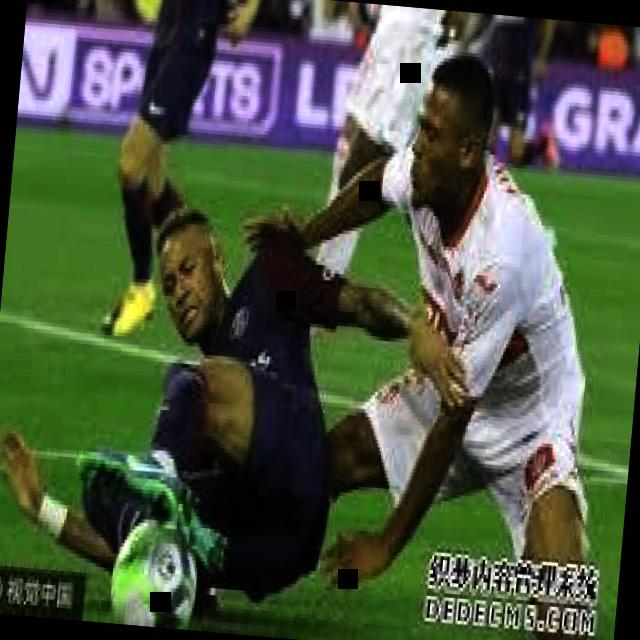Fall-Detected: (293, 26, 640, 640)
